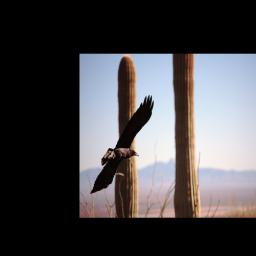Crow: (89, 93, 155, 196)
